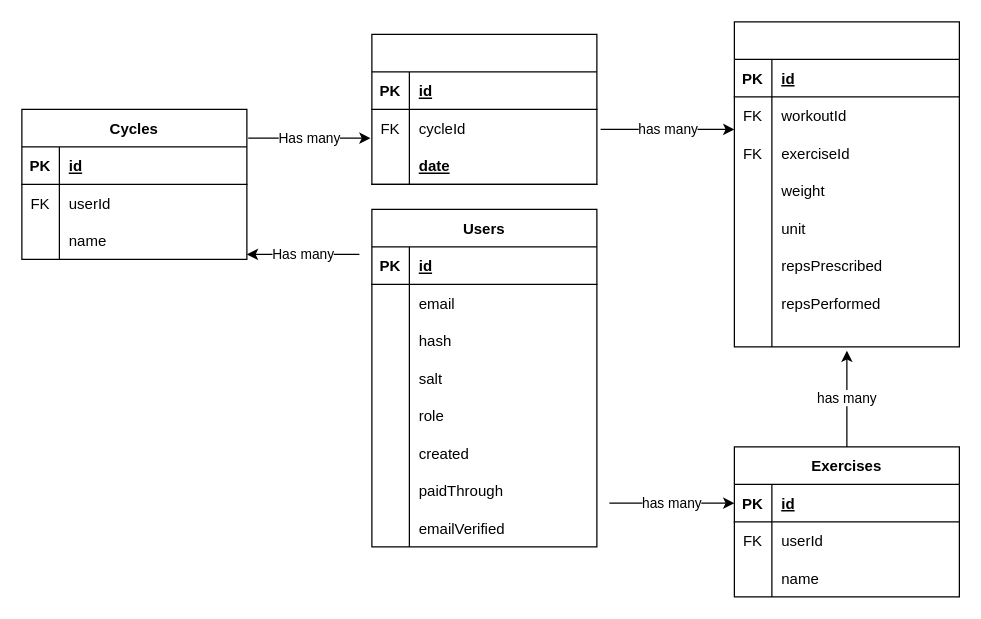
Some shapes in this 981 by 619 pixel diagram are drawn without their labels. Each missing label, with the box of its shape:
Sets: (733, 21, 959, 347)
Workouts: (371, 33, 597, 184)
